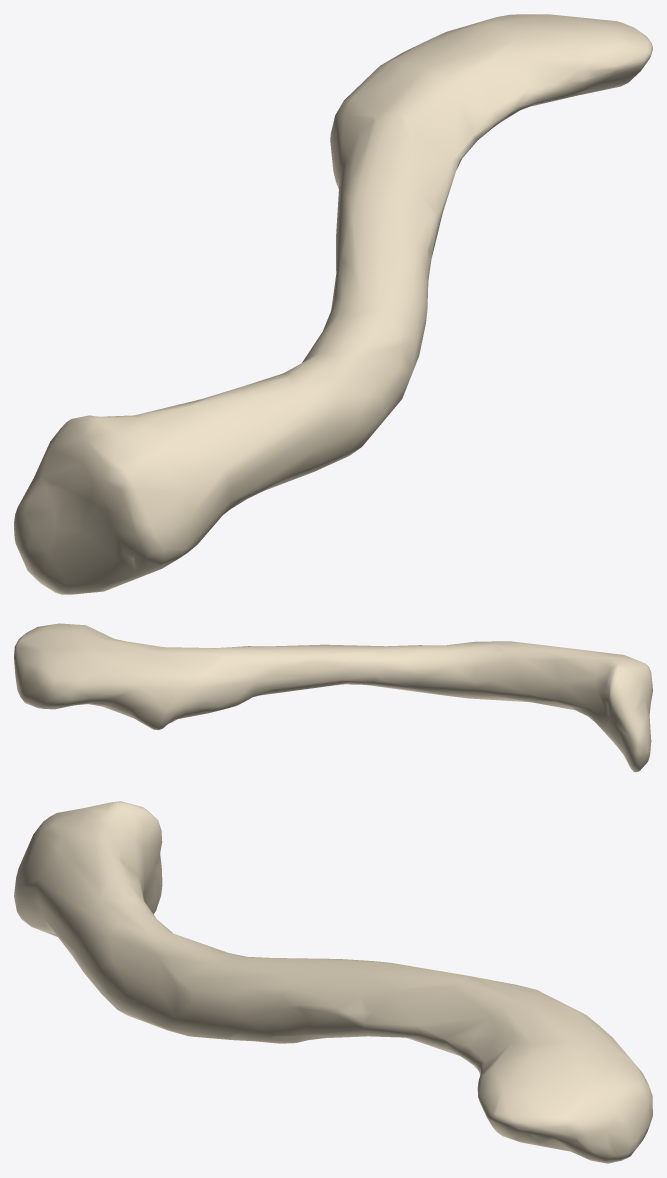
Rendered from clavicle-l.glb.
3 renders of one model, top to bottom at view 1: azimuth 30°, elevation 25°; view 2: azimuth 150°, elevation 25°; view 3: azimuth 270°, elevation 25°, orthographic. The views are drawn at different scales.
Visible parts, largest first — view 1: Clavicle.l; view 2: Clavicle.l; view 3: Clavicle.l.
Part boxes in pixels (box(x1,y1,x2,y2)): Clavicle.l: box(14, 14, 652, 594); Clavicle.l: box(14, 623, 652, 772); Clavicle.l: box(14, 801, 652, 1163).
Bounding box in the file's own units: 0.1431 × 0.0361 × 0.1028.
